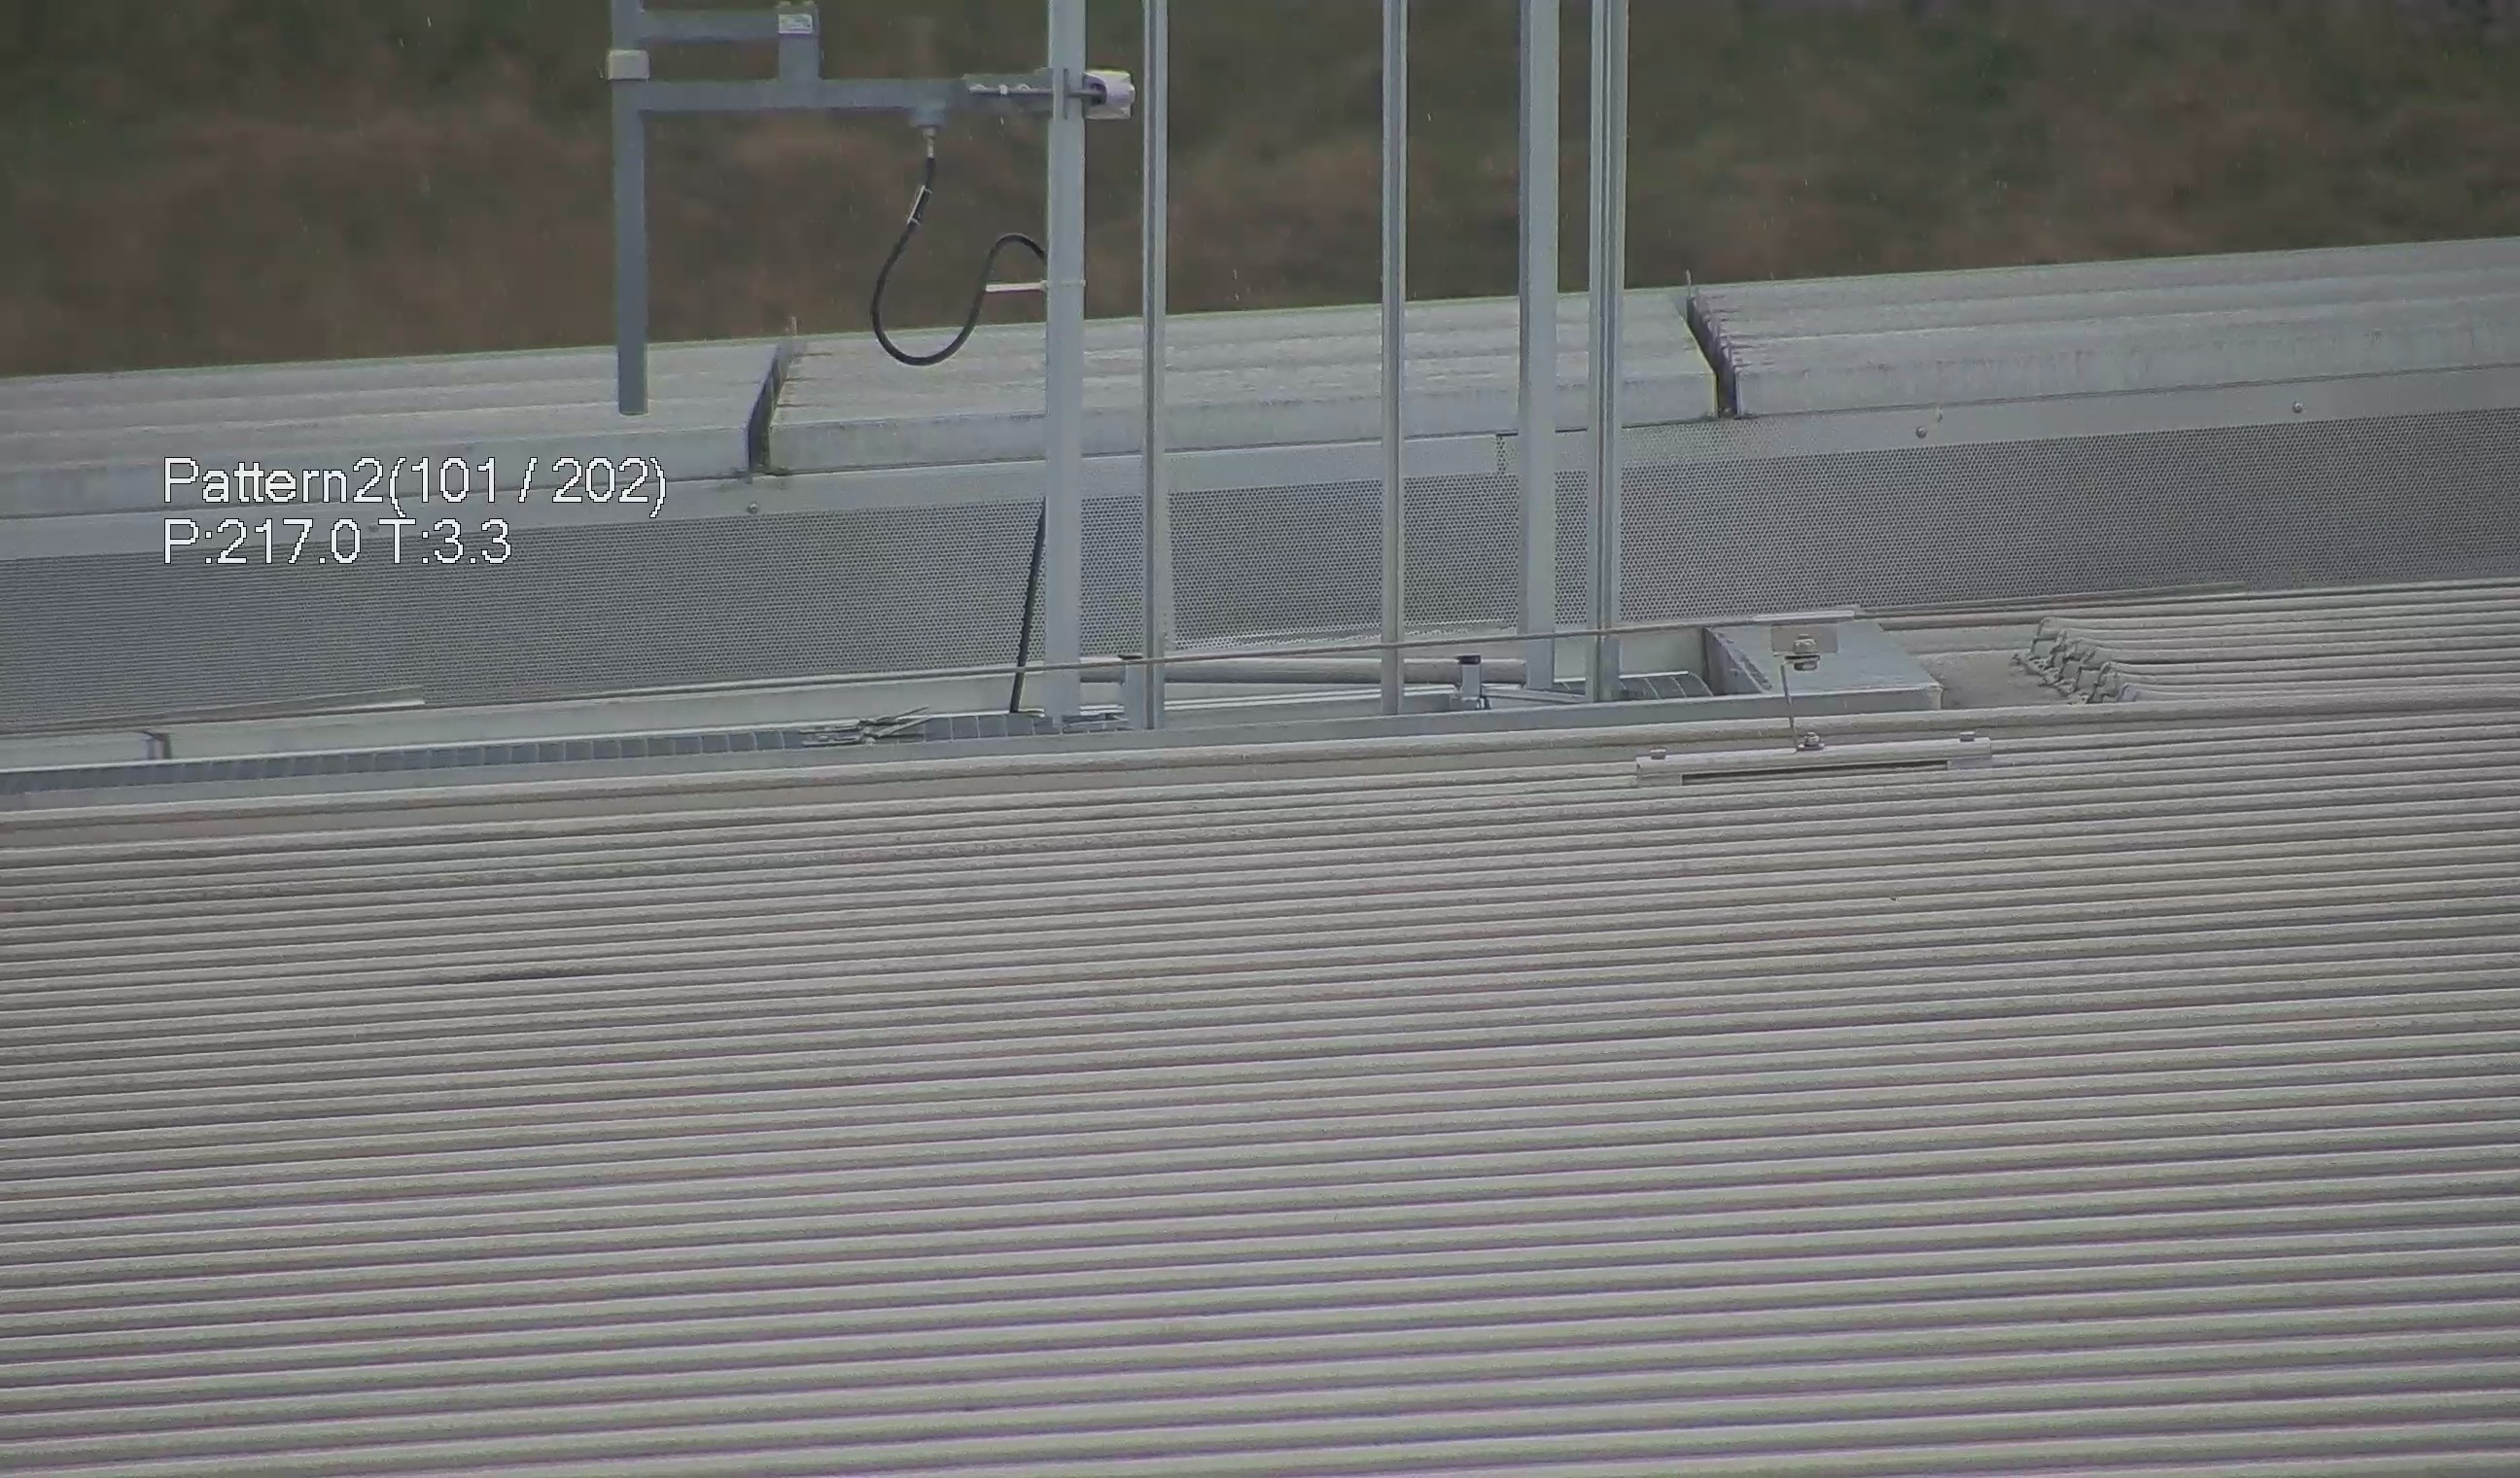Other: (1662, 260, 1769, 426)
